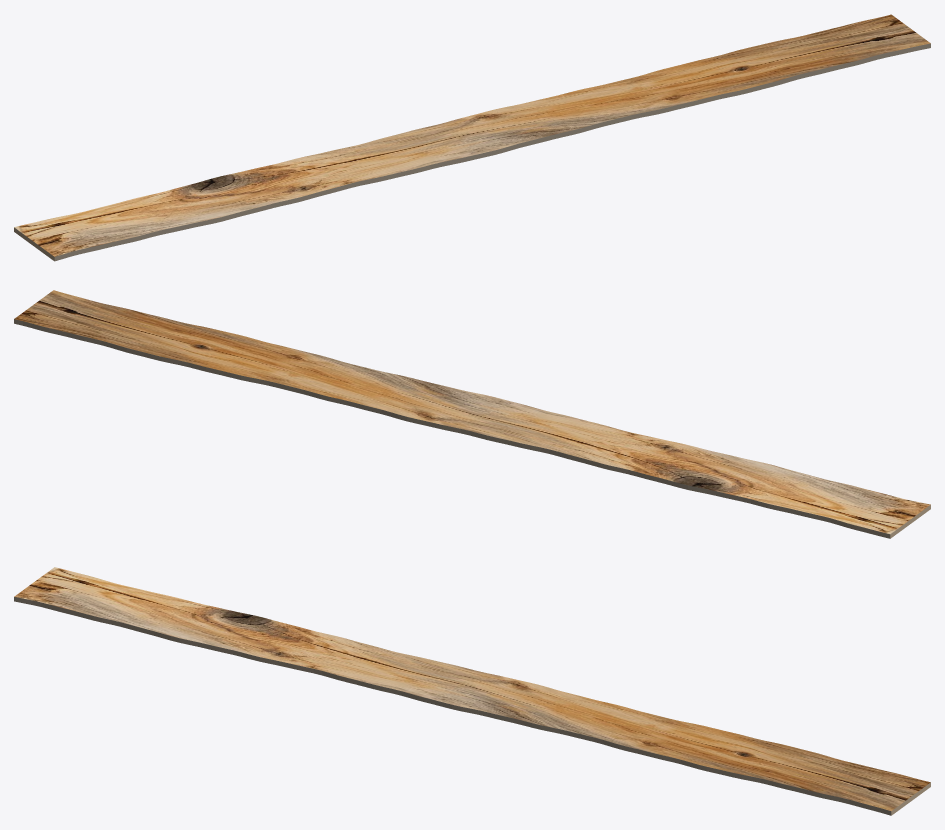
3 views of the same model, one above another, from view 1: azimuth 30°, elevation 25°; view 2: azimuth 150°, elevation 25°; view 3: azimuth 330°, elevation 25° (orthographic).
Parts seen in each view (by area): view 1: KL-003; view 2: KL-003; view 3: KL-003.
Boxes of the visible parts, left/top/right/bottom form: KL-003: left=14, top=14, right=930, bottom=261; KL-003: left=14, top=290, right=930, bottom=538; KL-003: left=14, top=567, right=930, bottom=815.
Size of the model in its own units: 6 by 0.03 by 0.499.
3 materials, 1 textured.
